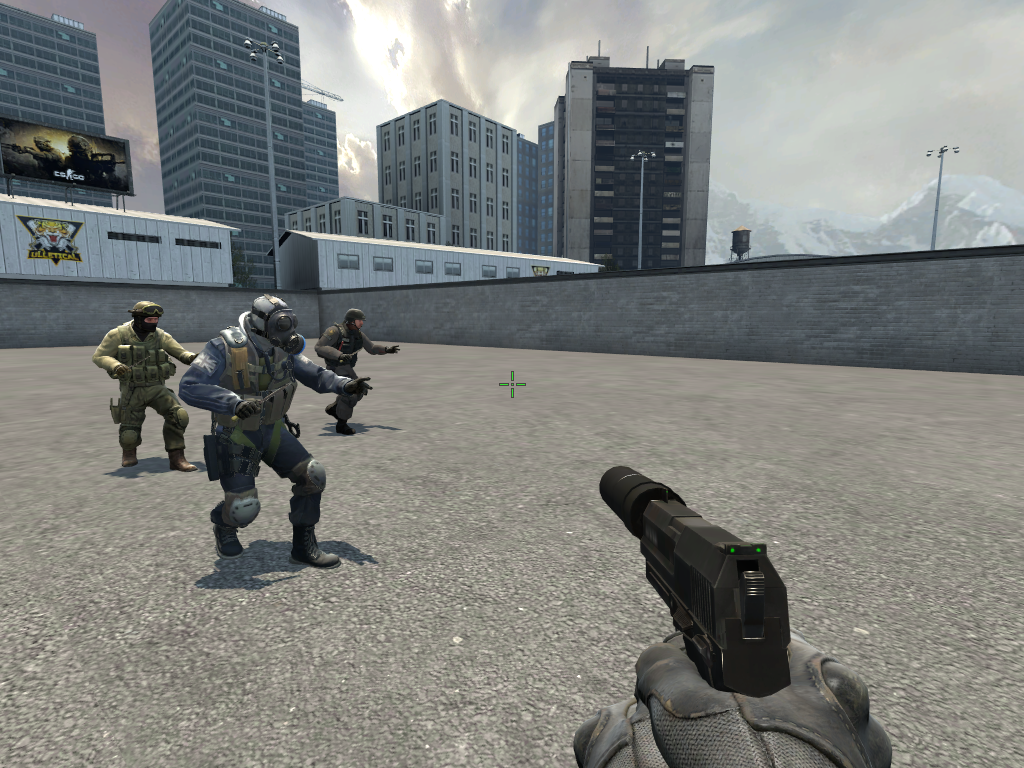ct head: (245, 293, 306, 354), (127, 296, 169, 337), (339, 308, 369, 337)
